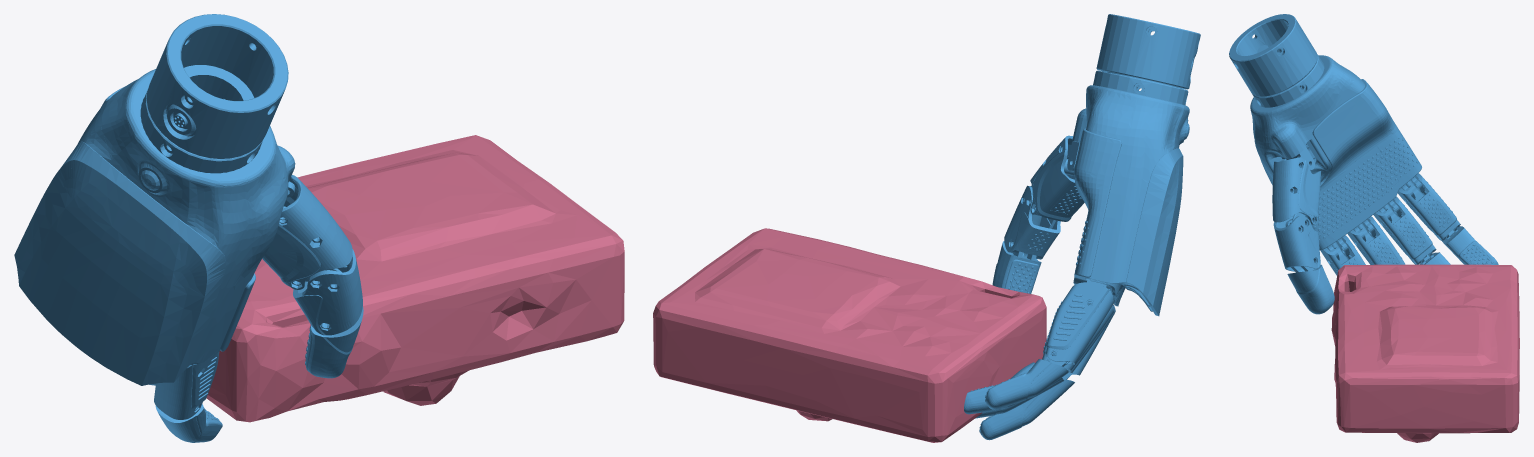
3 renders of one model, left to right at view 1: azimuth 30°, elevation 25°; view 2: azimuth 150°, elevation 25°; view 3: azimuth 270°, elevation 25°, orthographic. The views are drawn at different scales.
Parts seen in each view (by area): view 1: 8; view 2: 8; view 3: 8.
Part boxes in pixels (left/top/right/bottom): 8: left=14, top=14, right=624, bottom=442; 8: left=653, top=14, right=1200, bottom=442; 8: left=1229, top=14, right=1519, bottom=442.
Size of the model in its own units: 0.2594 by 0.2322 by 0.1894.
